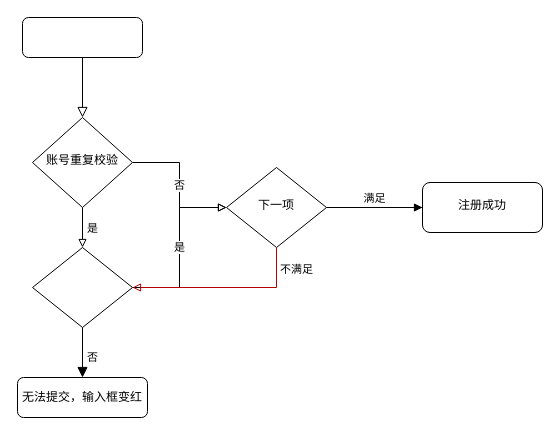
Some shapes in this 560 by 435 pixel diagram are drawn without their labels. The shapes that lost their labels are listed below. From the top down, each one's centre as x and y in pixels, then its label:
At [82,37]: "账号注册流程".
At [82,287]: "重新输入".
